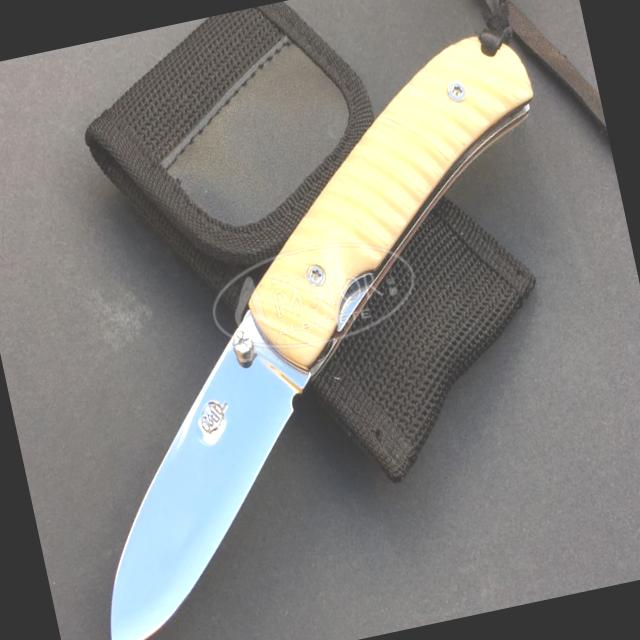knife: (39, 280, 375, 639)
